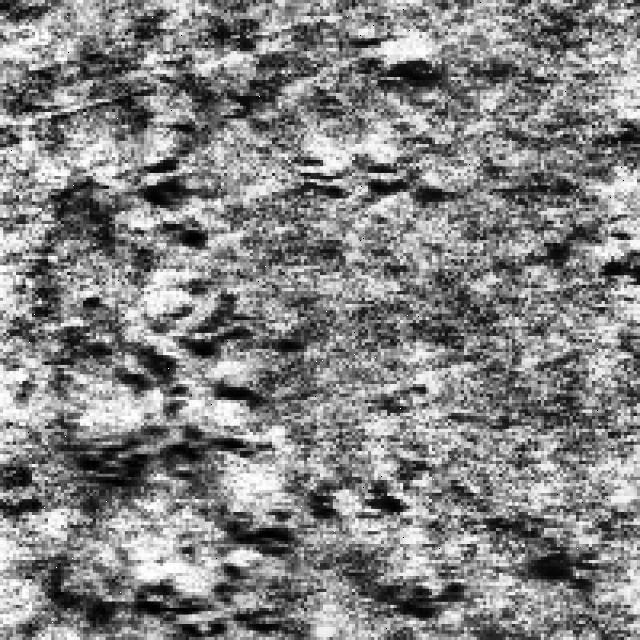Crazing: (58, 83, 284, 637), (297, 461, 508, 621), (284, 122, 454, 208)
